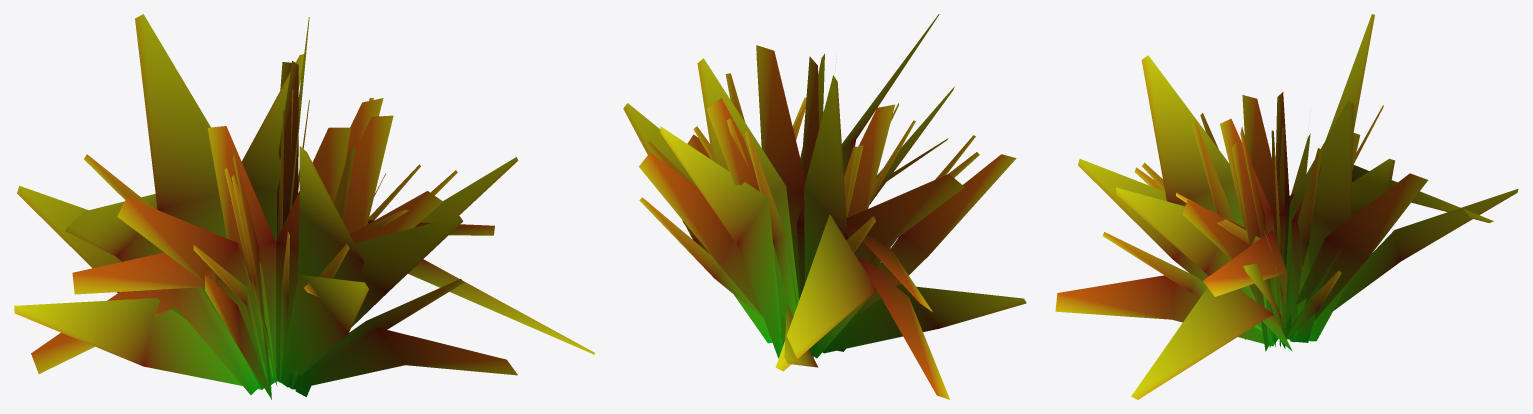
File: tmjhcayia_Var5_LOD3.fbx
3 renders of one model, left to right at view 1: azimuth 30°, elevation 25°; view 2: azimuth 150°, elevation 25°; view 3: azimuth 270°, elevation 25°, orthographic. The views are drawn at different scales.
Visible parts, largest first — view 1: Var5_LOD3; view 2: Var5_LOD3; view 3: Var5_LOD3.
Boxes of the visible parts, left/top/right/bottom form: Var5_LOD3: left=14, top=14, right=594, bottom=399; Var5_LOD3: left=623, top=14, right=1026, bottom=399; Var5_LOD3: left=1055, top=14, right=1518, bottom=399.
Size of the model in its own units: 13.61 by 9.64 by 13.71.
